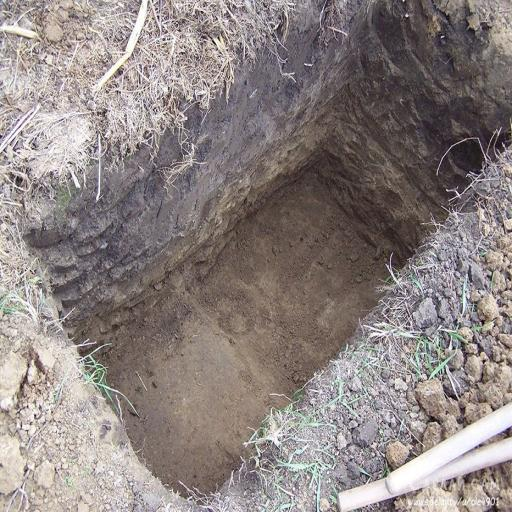construction_fence: (21, 0, 512, 507)
